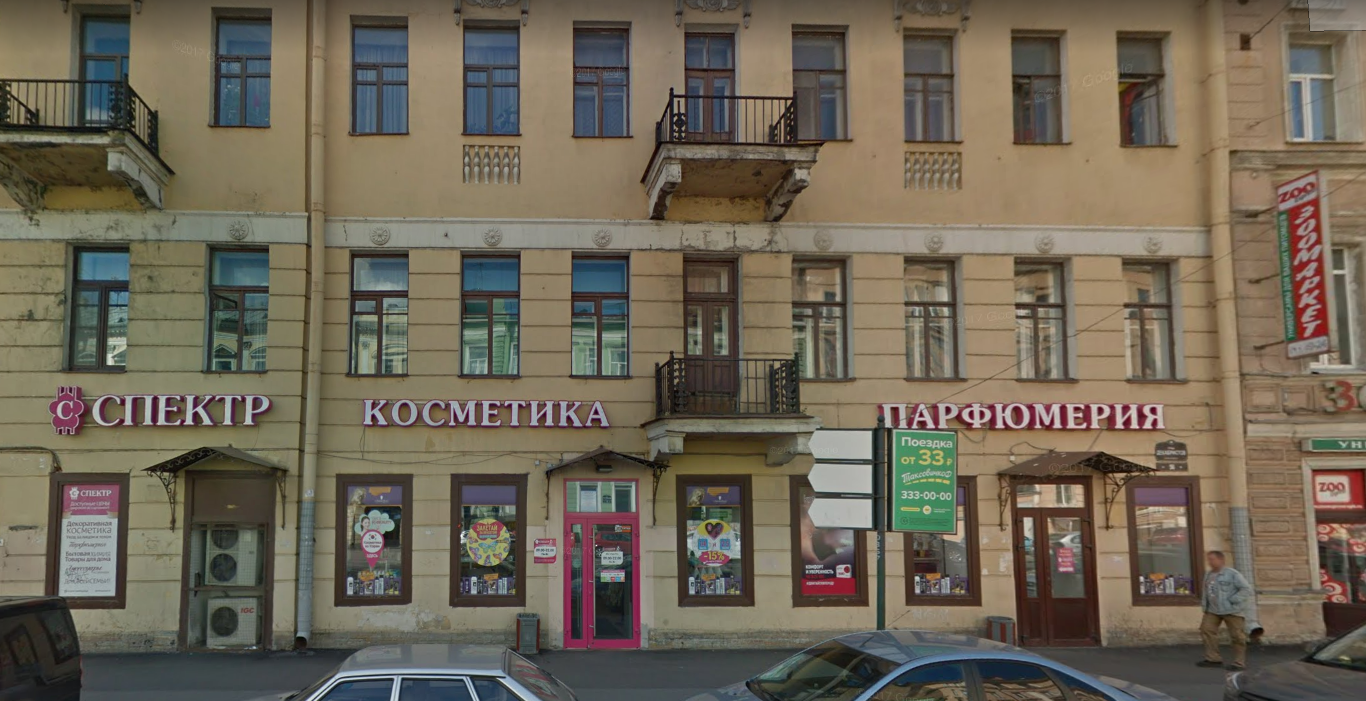cantilever: (1248, 160, 1340, 367)
door: (1010, 511, 1100, 648), (566, 516, 645, 647)
signboard: (359, 388, 621, 439), (42, 377, 271, 434), (876, 397, 1170, 435)
window: (450, 477, 526, 604), (335, 473, 410, 601), (680, 477, 749, 607), (53, 475, 123, 602), (349, 251, 415, 374), (570, 253, 634, 378), (63, 253, 131, 367), (789, 255, 851, 378), (206, 11, 273, 124), (898, 256, 960, 378), (463, 253, 524, 375), (209, 243, 267, 369), (899, 27, 962, 140), (1137, 485, 1199, 599), (1011, 260, 1069, 381), (792, 22, 850, 143), (572, 23, 632, 137), (1123, 261, 1181, 376), (1283, 29, 1344, 137), (464, 23, 524, 132), (1116, 32, 1173, 146), (80, 14, 134, 131), (1015, 31, 1070, 145), (353, 21, 407, 136), (688, 31, 735, 138), (912, 533, 978, 602), (566, 478, 634, 516)
